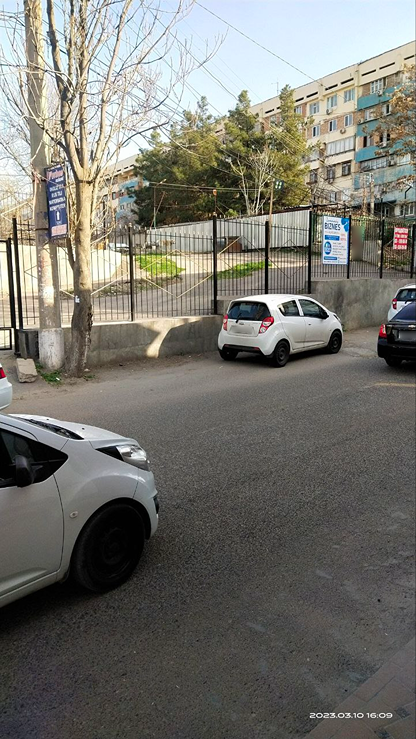car: (0, 385, 158, 624), (208, 268, 335, 361), (380, 308, 416, 365), (385, 287, 416, 312)
tree: (2, 0, 175, 364), (211, 87, 276, 215), (270, 75, 325, 193)
